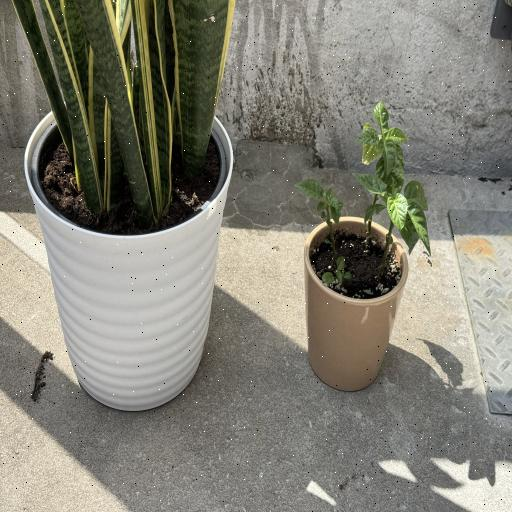Plant Pot: (23, 94, 235, 411), (304, 216, 410, 392)
